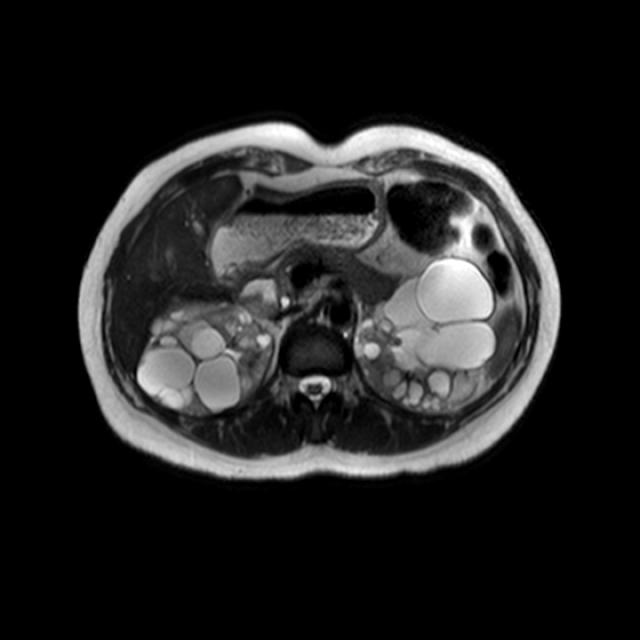sag: (135, 300, 277, 418)
sol: (357, 258, 494, 415)
